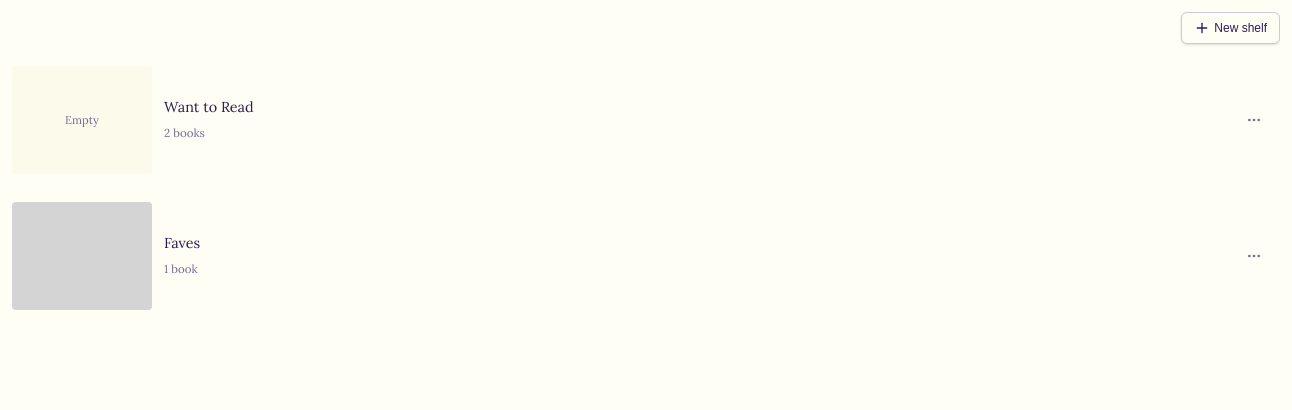
Test: ShelvesSection › offers rename + delete for custom shelves, only privacy for the system shelf
Click the button named "Options for Faves" at x=1254, y=256, box [1240, 242, 1268, 270]
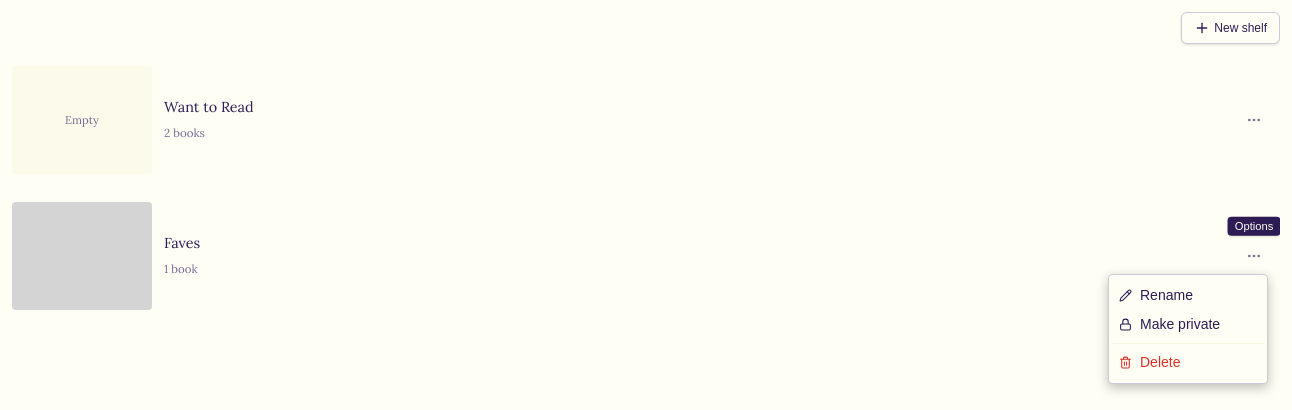
expect the menu item "Rename" is shown: met, box [1119, 287, 1193, 303]
expect the menu item "Delete" is shown: met, box [1119, 354, 1180, 370]
expect the menu item "Make private" is shown: met, box [1119, 316, 1220, 332]
Press Escape
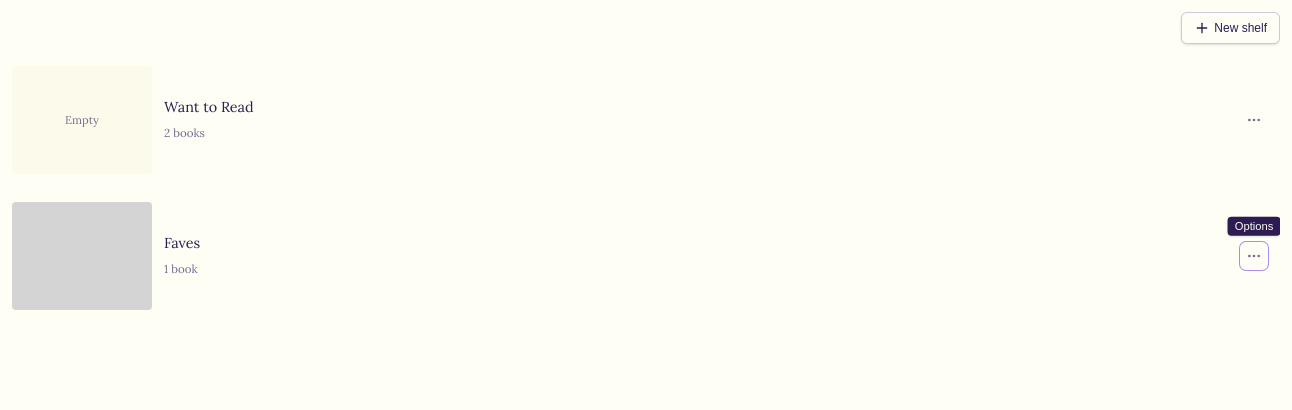
Click the button named "Options for Want to Read" at x=1254, y=120, box [1240, 106, 1268, 134]
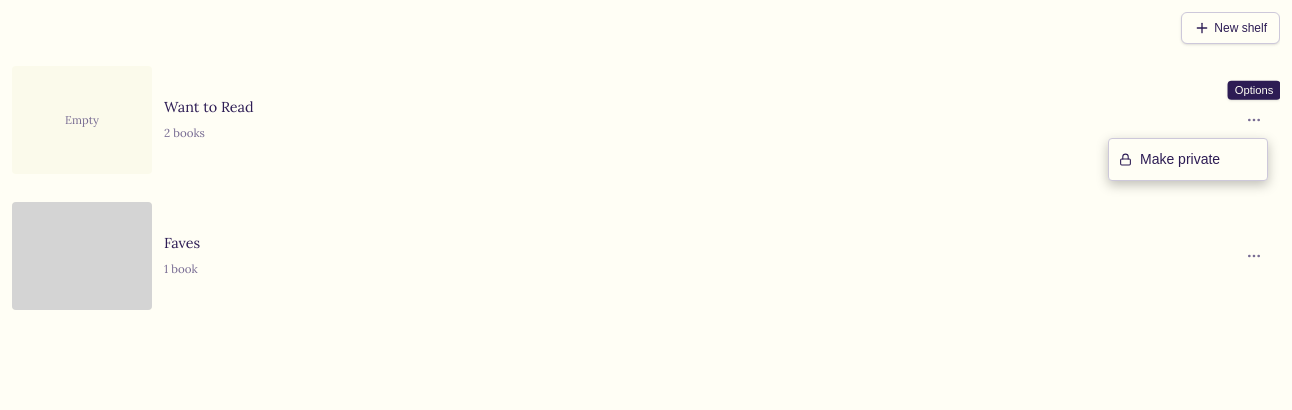
expect the menu item "Rename" is not shown: met
expect the menu item "Make private" is shown: met, box [1119, 151, 1220, 167]
